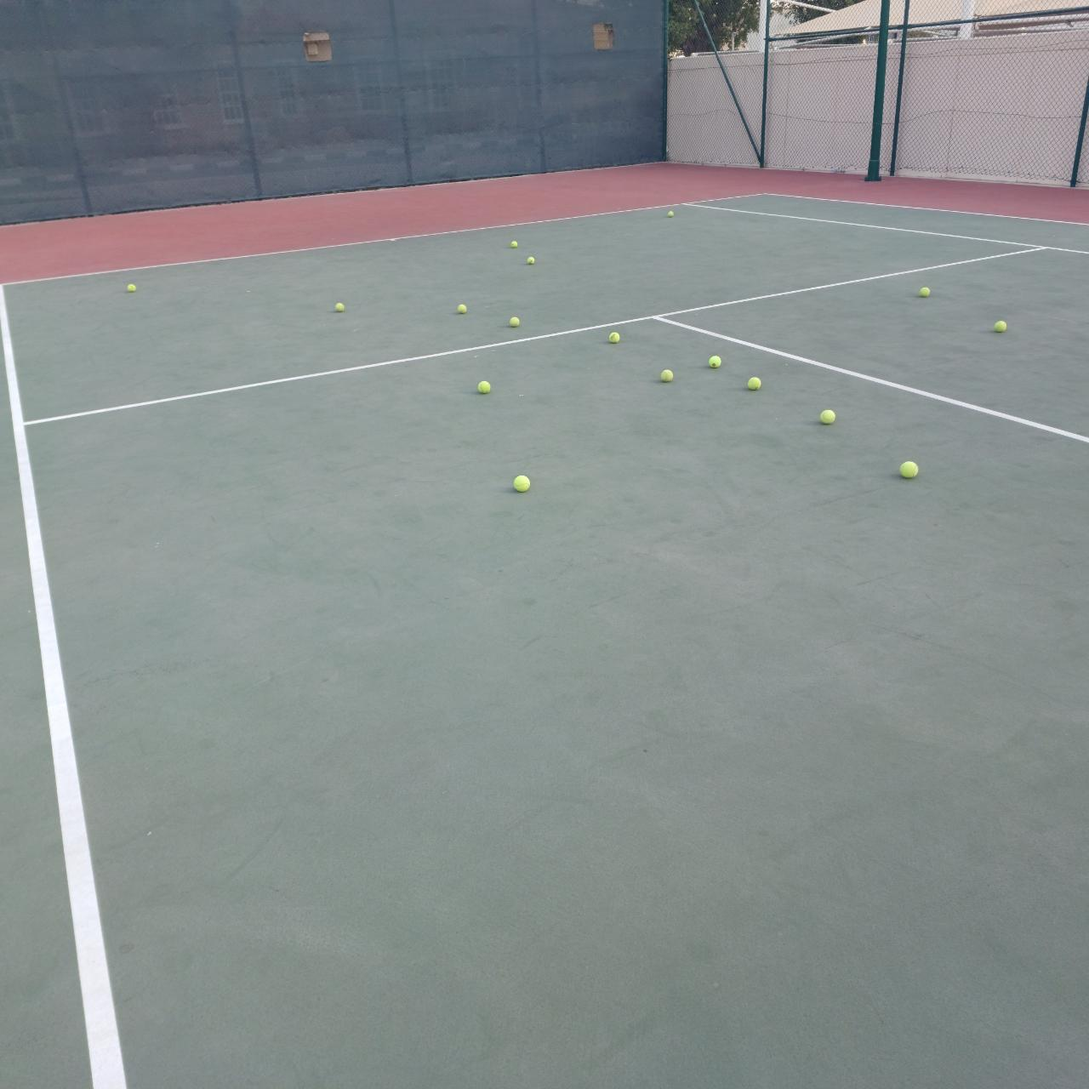tennis-ball: (511, 472, 530, 493), (898, 459, 919, 478), (818, 408, 835, 425), (476, 379, 490, 394), (747, 376, 760, 390), (708, 355, 722, 368), (994, 321, 1007, 333), (660, 369, 673, 381), (608, 331, 620, 344), (509, 316, 520, 326), (334, 302, 345, 312), (457, 304, 467, 314), (919, 288, 930, 297), (128, 283, 136, 292), (527, 257, 535, 264), (510, 241, 518, 248), (668, 211, 674, 218)
